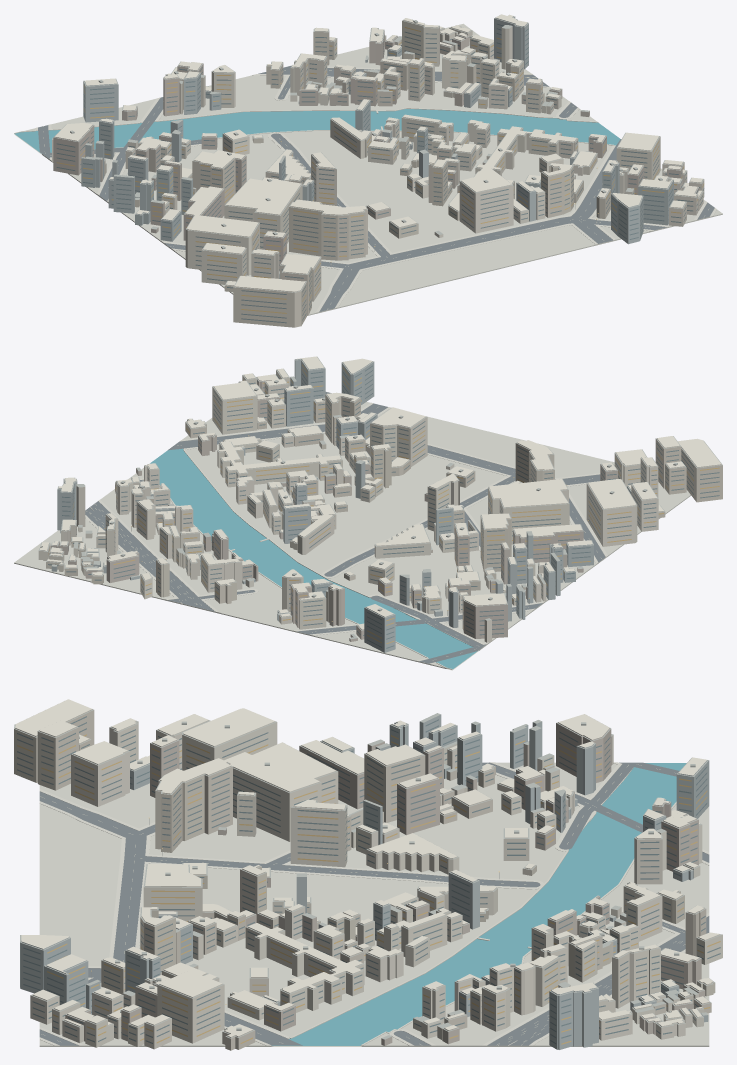
3 renders of one model, top to bottom at view 1: azimuth 30°, elevation 25°; view 2: azimuth 150°, elevation 25°; view 3: azimuth 270°, elevation 25°, orthographic. The views are drawn at different scales.
Parts seen in each view (by area): view 1: city; view 2: city; view 3: city.
Boxes of the visible parts, <box> form: city: <box>14,14,722,327</box>; city: <box>14,356,722,670</box>; city: <box>14,699,722,1050</box>.
Size of the model in its own units: 541 by 49.45 by 529.
